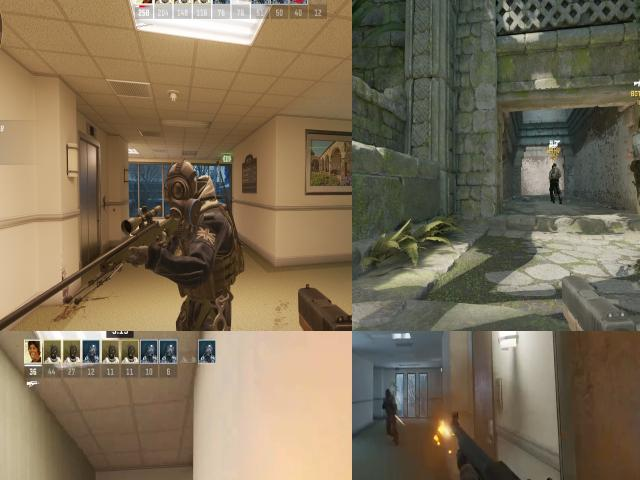CT: (159, 158, 233, 331), (379, 385, 402, 447)
CT-Head: (163, 161, 200, 211), (385, 387, 393, 402)
T: (622, 109, 640, 233), (548, 154, 562, 210)
T-Head: (636, 113, 640, 133), (551, 162, 559, 170)
